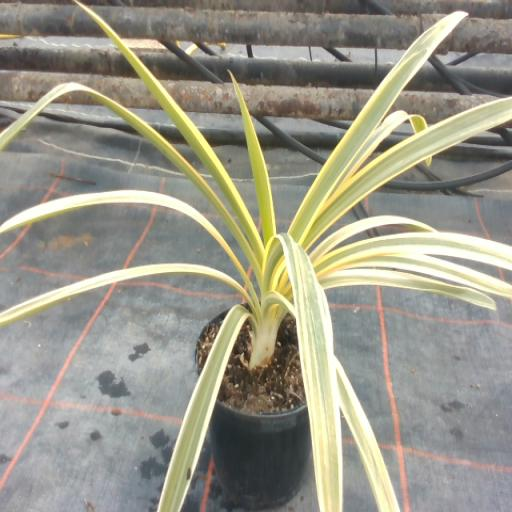Agapanthus-praecox: (0, 83, 260, 279), (74, 0, 262, 270), (289, 12, 467, 241), (305, 98, 511, 247), (264, 235, 342, 511), (0, 190, 242, 273), (158, 305, 248, 511), (0, 263, 248, 325), (336, 358, 399, 511), (231, 74, 275, 242), (314, 233, 511, 270), (344, 255, 511, 298), (324, 269, 494, 307), (310, 215, 434, 261), (346, 110, 426, 178), (425, 158, 431, 165)
